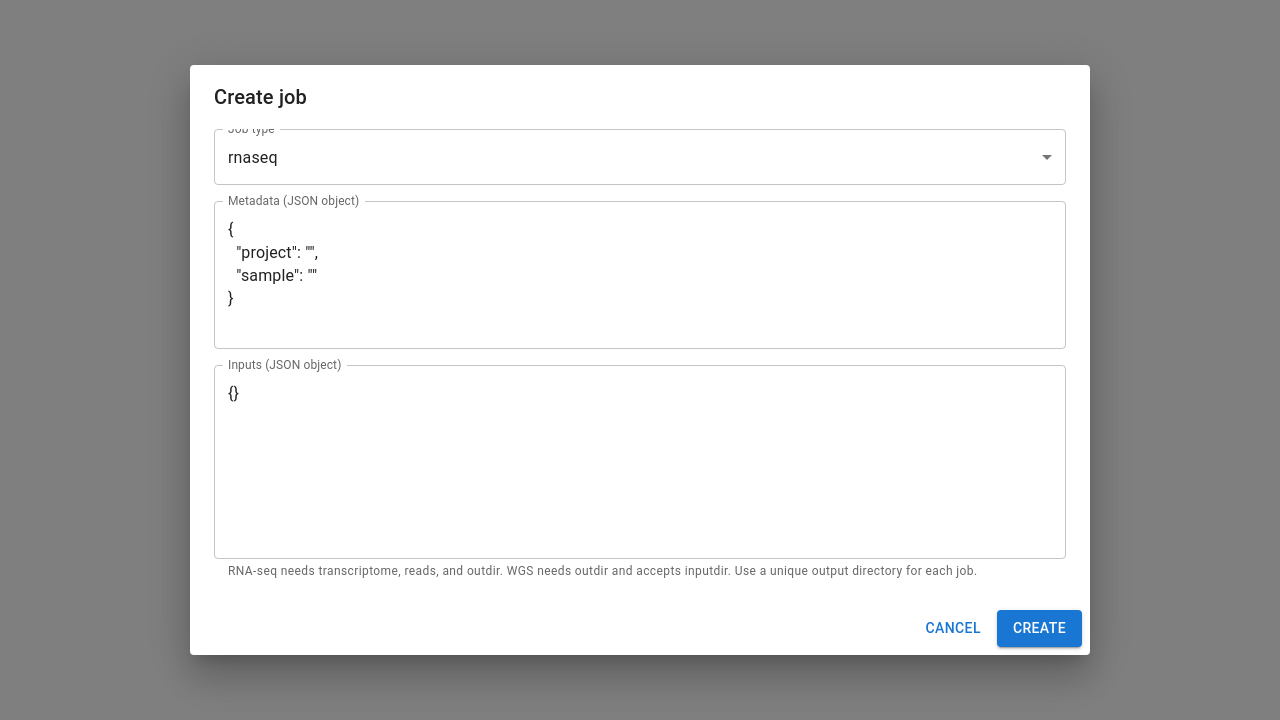
job template creation › formats the brand in a job submission error
Click the button "Create" at {"x": 1039, "y": 628}, box left=997, top=610, right=1082, bottom=647
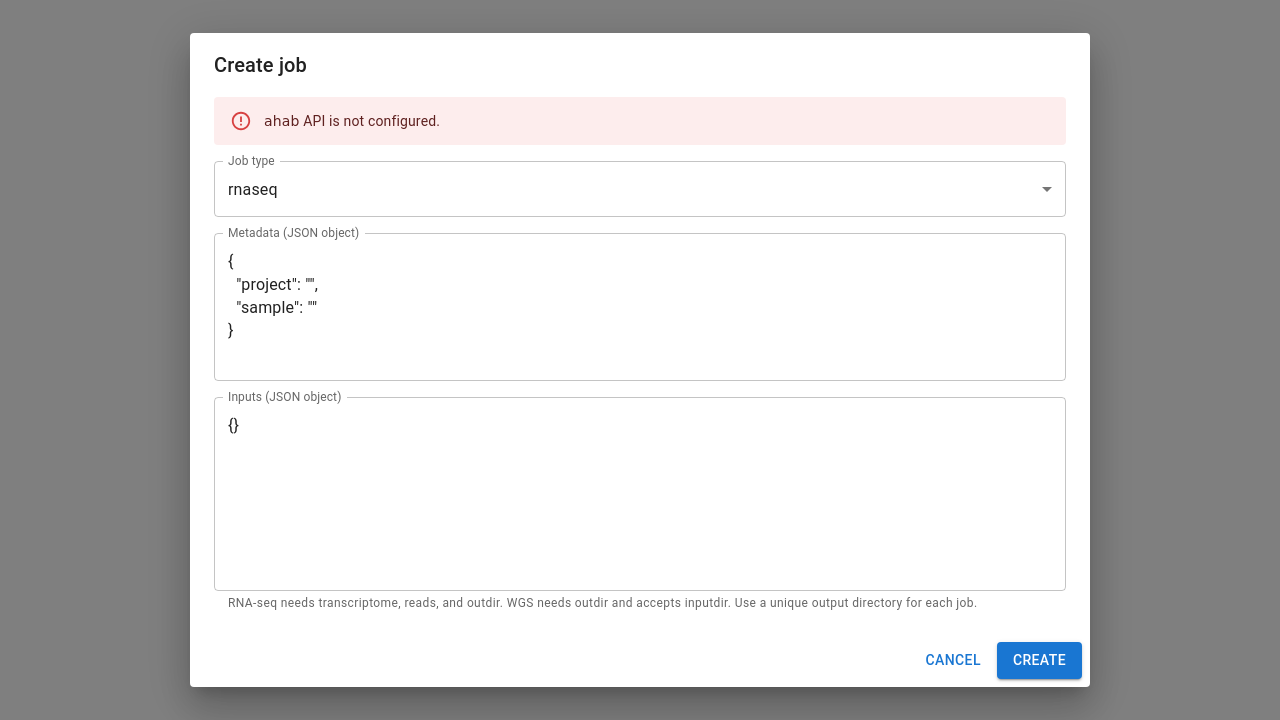
Expected: the message reads "ahab API is not configured.", left=214, top=97, right=1066, bottom=145
